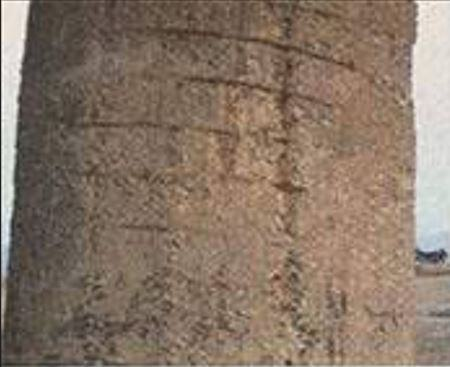Exposed reinforcement: (145, 25, 357, 73), (180, 74, 333, 107), (74, 119, 233, 138)
Spalling: (71, 248, 348, 367)
